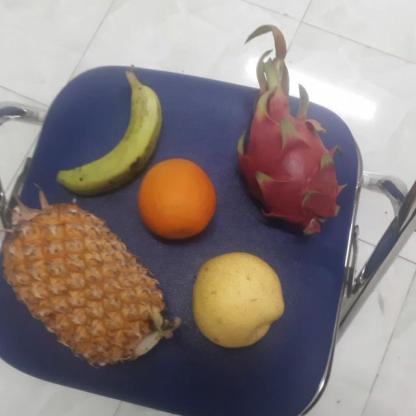orange: (136, 155, 221, 241)
pear: (188, 252, 288, 348)
pineapple: (0, 201, 170, 375)
pitaya: (235, 96, 345, 238)
